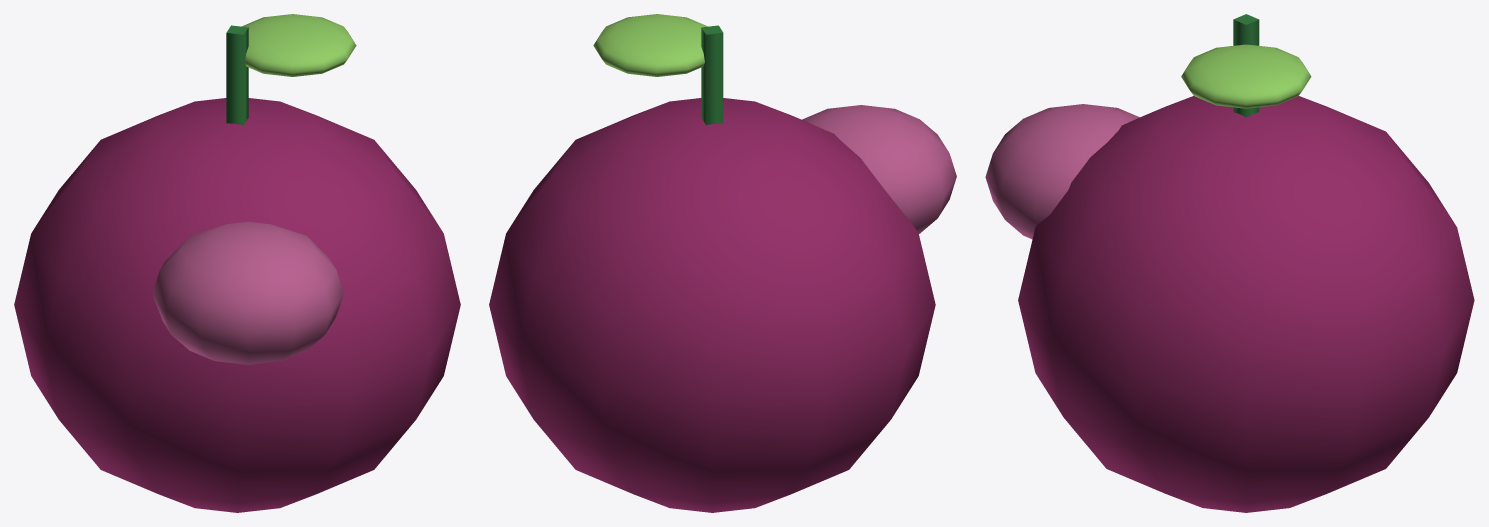
Rendered from plum.glb.
3 views of the same model, side by side, from view 1: azimuth 30°, elevation 25°; view 2: azimuth 150°, elevation 25°; view 3: azimuth 270°, elevation 25° (orthographic). The views are drawn at different scales.
Visible parts, largest first — view 1: root; view 2: root; view 3: root.
Part boxes in pixels (x1,y1,x2,y2): root: [14, 14, 460, 512]; root: [489, 14, 956, 512]; root: [985, 14, 1474, 512].
Size of the model in its own units: 0.28 by 0.3188 by 0.3.
